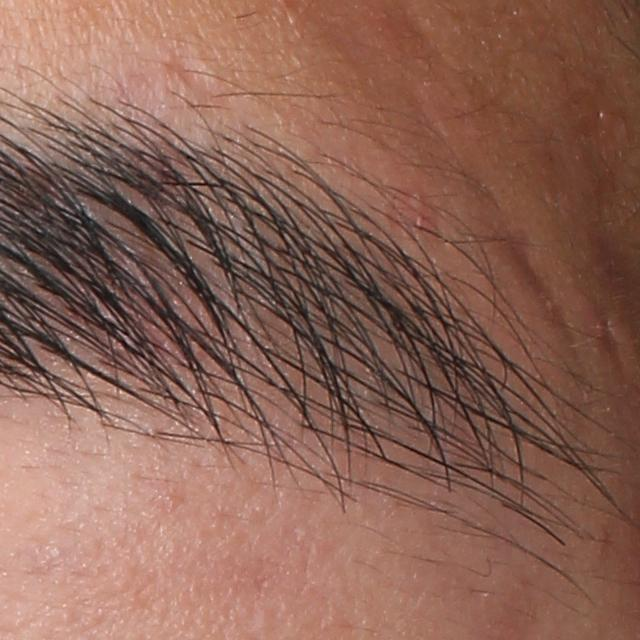atrophic_scar: (491, 220, 582, 369), (161, 50, 218, 100)
